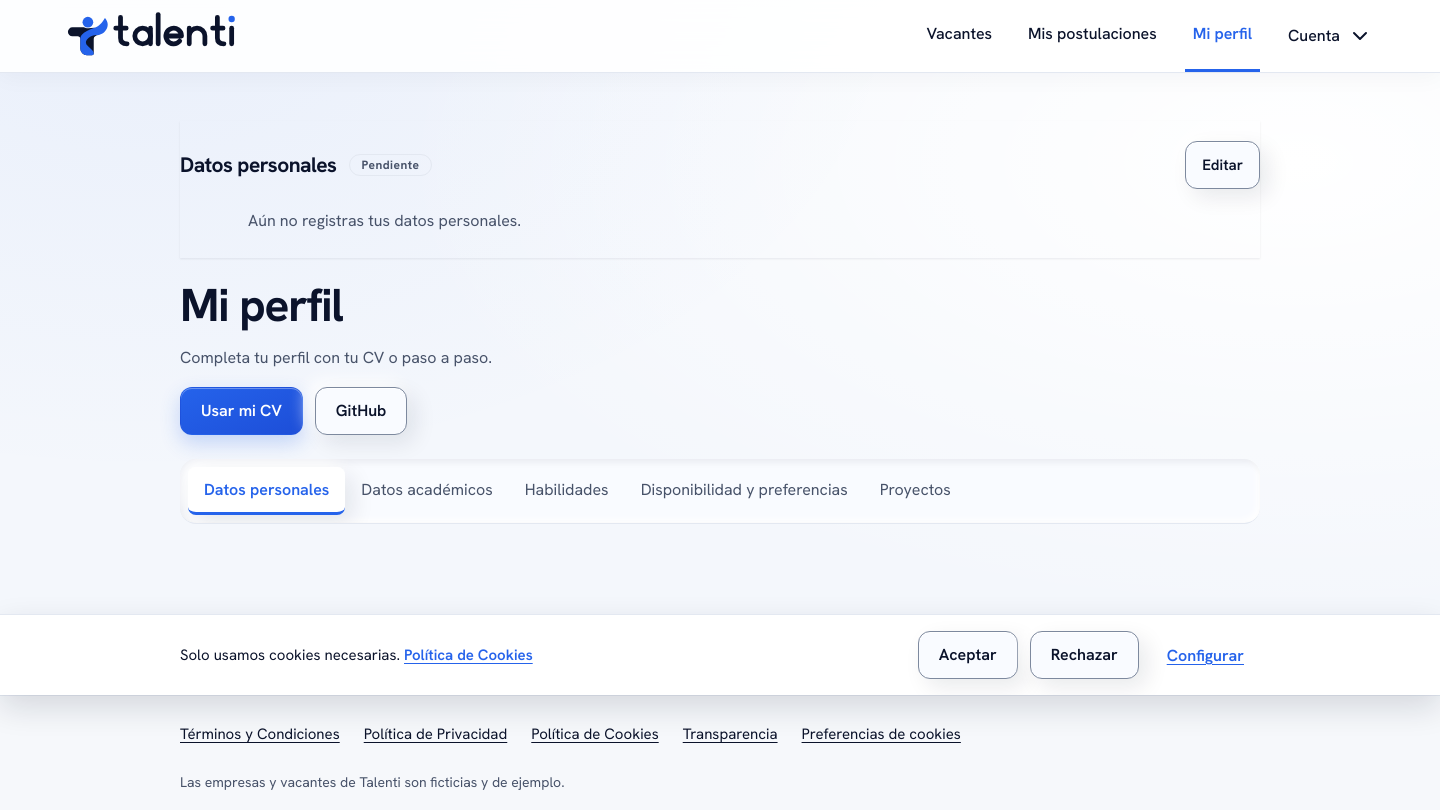
Test: Entry from /perfil (009-19, 009-36) › 009-19: profile opens the real CV reader
Click the link "Usar mi CV": (241, 410) [180,386,303,434]
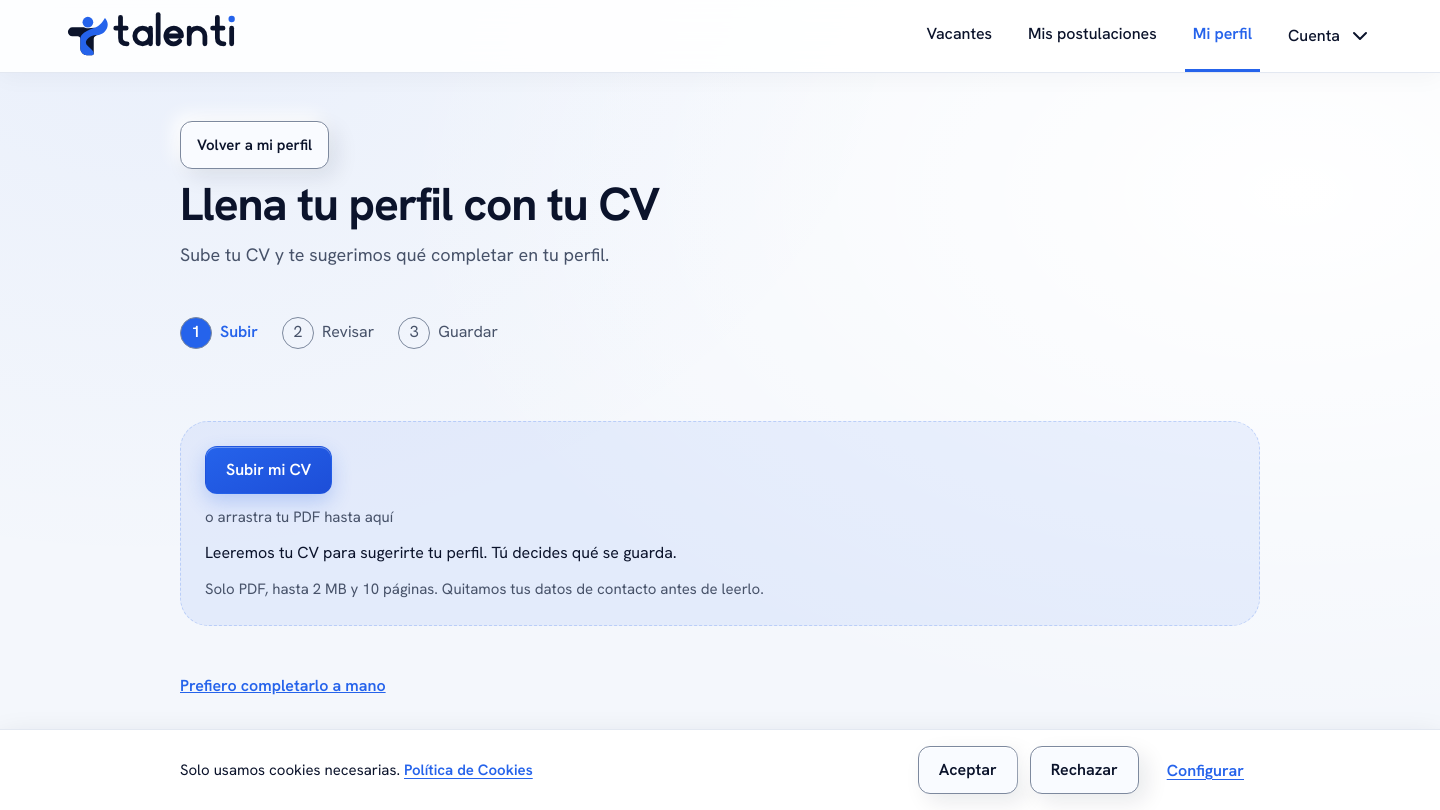
Expected: the heading "Llena tu perfil con tu CV" is shown, [180,181,659,229]
